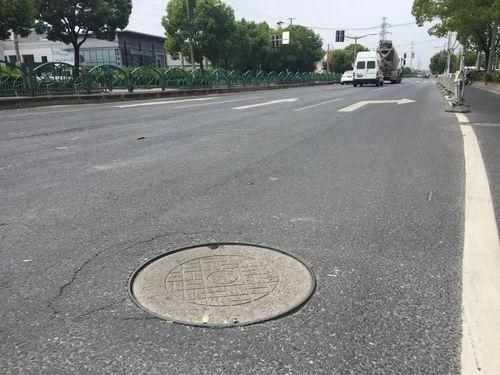wellcover: (121, 235, 328, 336)
